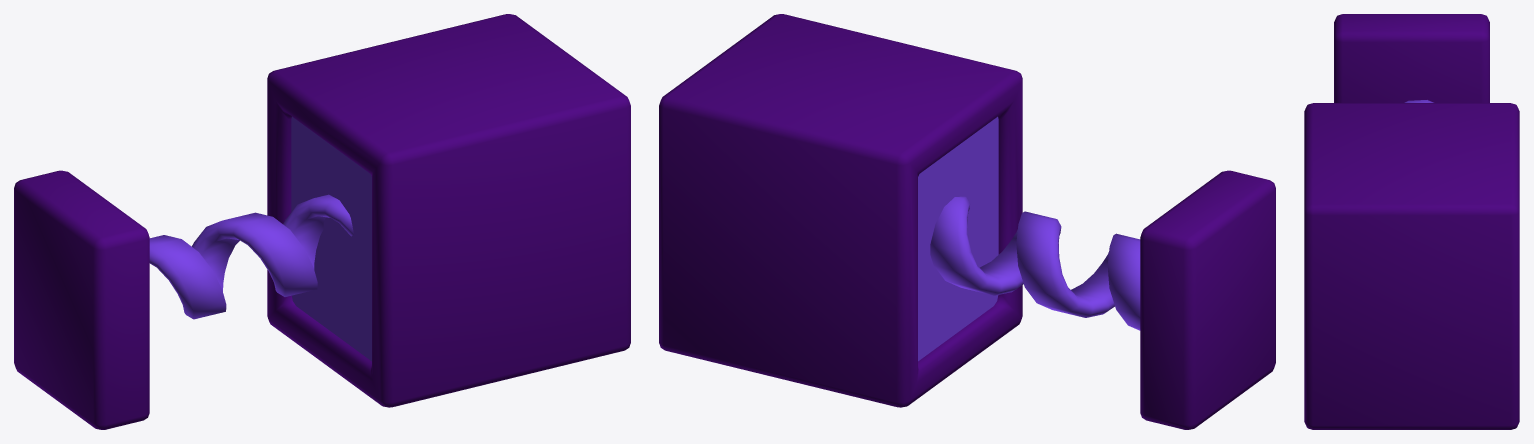
The model's file is spring_half_violet.fbx.
3 renders of one model, left to right at view 1: azimuth 30°, elevation 25°; view 2: azimuth 150°, elevation 25°; view 3: azimuth 270°, elevation 25°, orthographic. The views are drawn at different scales.
Parts seen in each view (by area): view 1: spring_half_violet_main, spring_half_violet_serve; view 2: spring_half_violet_main, spring_half_violet_serve; view 3: spring_half_violet_main, spring_half_violet_serve.
Boxes of the visible parts, left/top/right/bottom form: spring_half_violet_main: left=267, top=14, right=630, bottom=407; spring_half_violet_serve: left=14, top=170, right=353, bottom=429; spring_half_violet_main: left=659, top=14, right=1022, bottom=407; spring_half_violet_serve: left=930, top=170, right=1275, bottom=429; spring_half_violet_main: left=1304, top=103, right=1519, bottom=429; spring_half_violet_serve: left=1334, top=14, right=1489, bottom=102.
Size of the model in its own units: 0.5 by 0.2341 by 0.2024.
